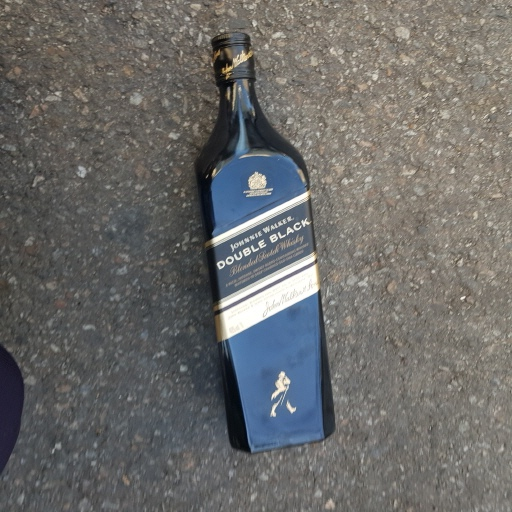Glass_2: (199, 30, 343, 454)
